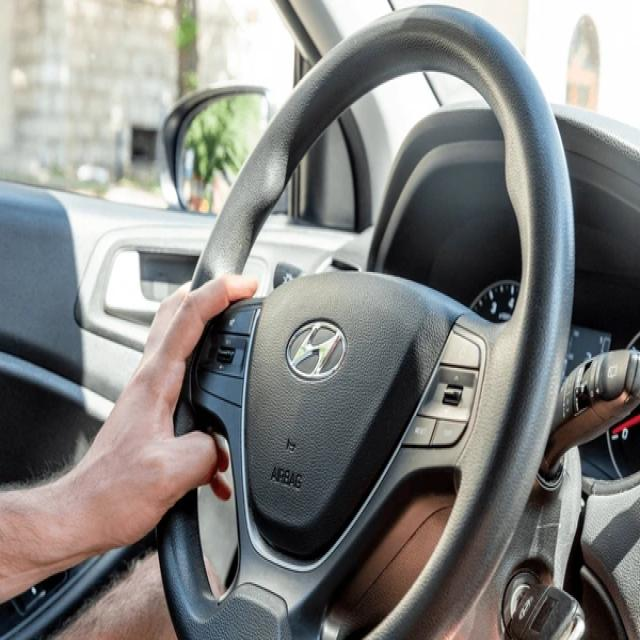hyundai: (278, 318, 352, 382)
